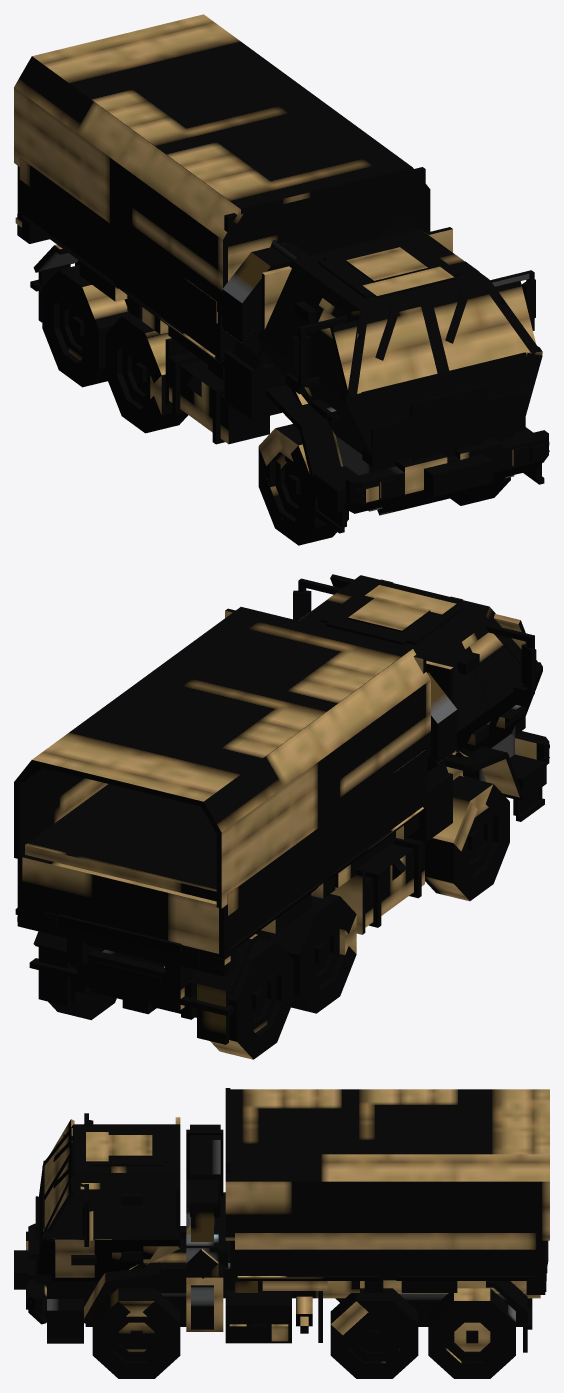
The model's file is fmtv.obj.
3 views of the same model, one above another, from view 1: azimuth 30°, elevation 25°; view 2: azimuth 150°, elevation 25°; view 3: azimuth 270°, elevation 25° (orthographic). The views are drawn at different scales.
Parts seen in each view (by area): view 1: body, w3, w2, w1; view 2: body, w1, w2, w3, w6; view 3: body, w4, w6, w5.
Part boxes in pixels (x1,y1,x2,y2): body: [14, 14, 549, 533]; w3: [42, 265, 129, 387]; w2: [105, 313, 188, 433]; w1: [258, 424, 348, 545]; body: [14, 574, 549, 1044]; w1: [425, 775, 509, 901]; w2: [269, 894, 356, 1013]; w3: [210, 937, 293, 1059]; w6: [48, 963, 116, 1020]; body: [14, 1088, 549, 1352]; w4: [92, 1288, 180, 1378]; w6: [428, 1288, 515, 1378]; w5: [330, 1288, 418, 1378].
Bounding box in the file's own units: 3.26 × 3.63 × 8.03.
